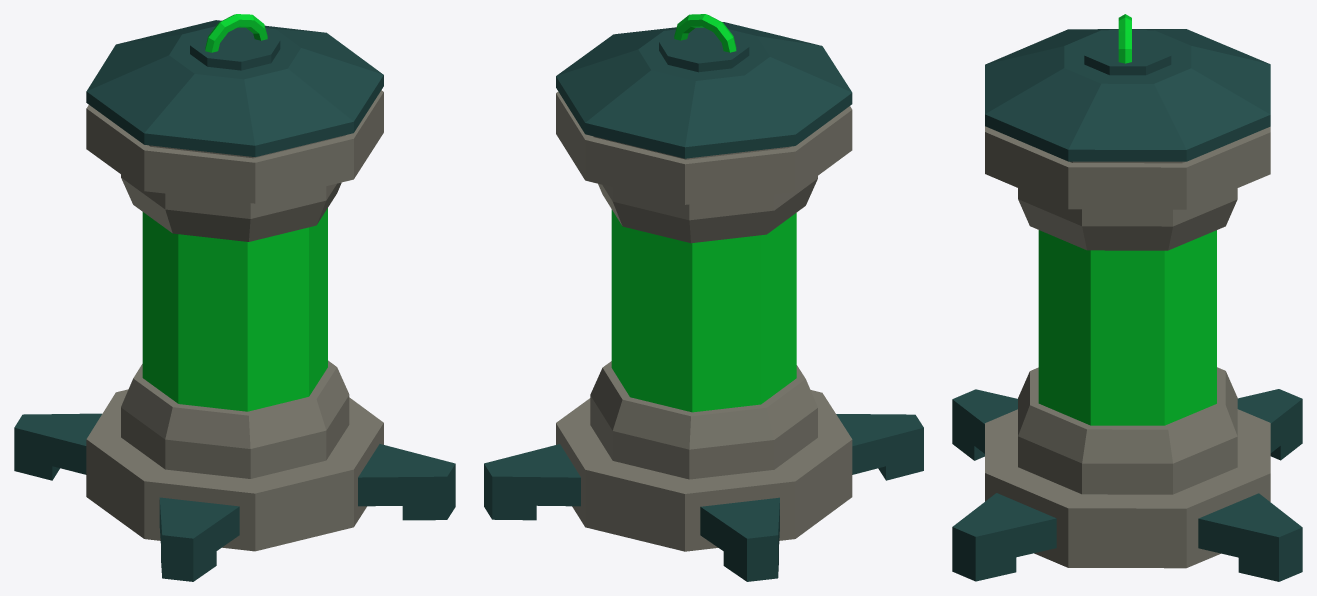
File: sciFiTank 1.fbx
3 views of the same model, side by side, from view 1: azimuth 30°, elevation 25°; view 2: azimuth 150°, elevation 25°; view 3: azimuth 270°, elevation 25° (orthographic). The views are drawn at different scales.
Parts seen in each view (by area): view 1: Cylinder; view 2: Cylinder; view 3: Cylinder.
Part boxes in pixels (left/top/right/bottom): Cylinder: left=14, top=14, right=455, bottom=581; Cylinder: left=484, top=14, right=923, bottom=581; Cylinder: left=952, top=14, right=1302, bottom=581.
Size of the model in its own units: 227 by 350 by 227.
